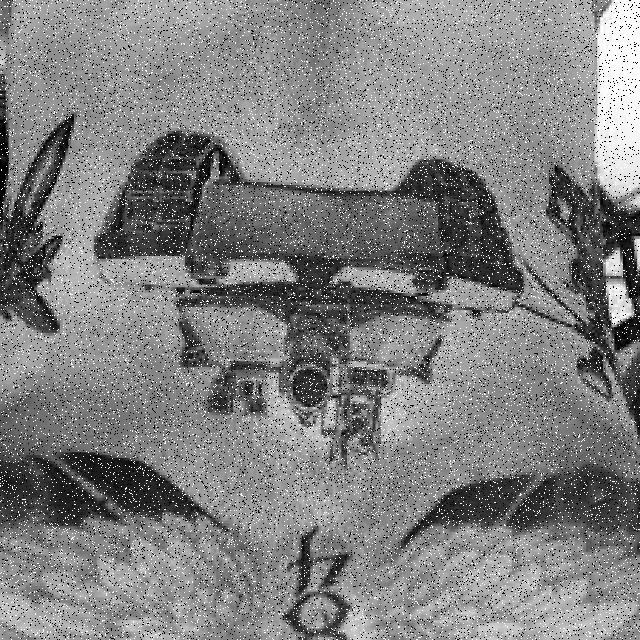MIL_MBT: (90, 84, 556, 502)
